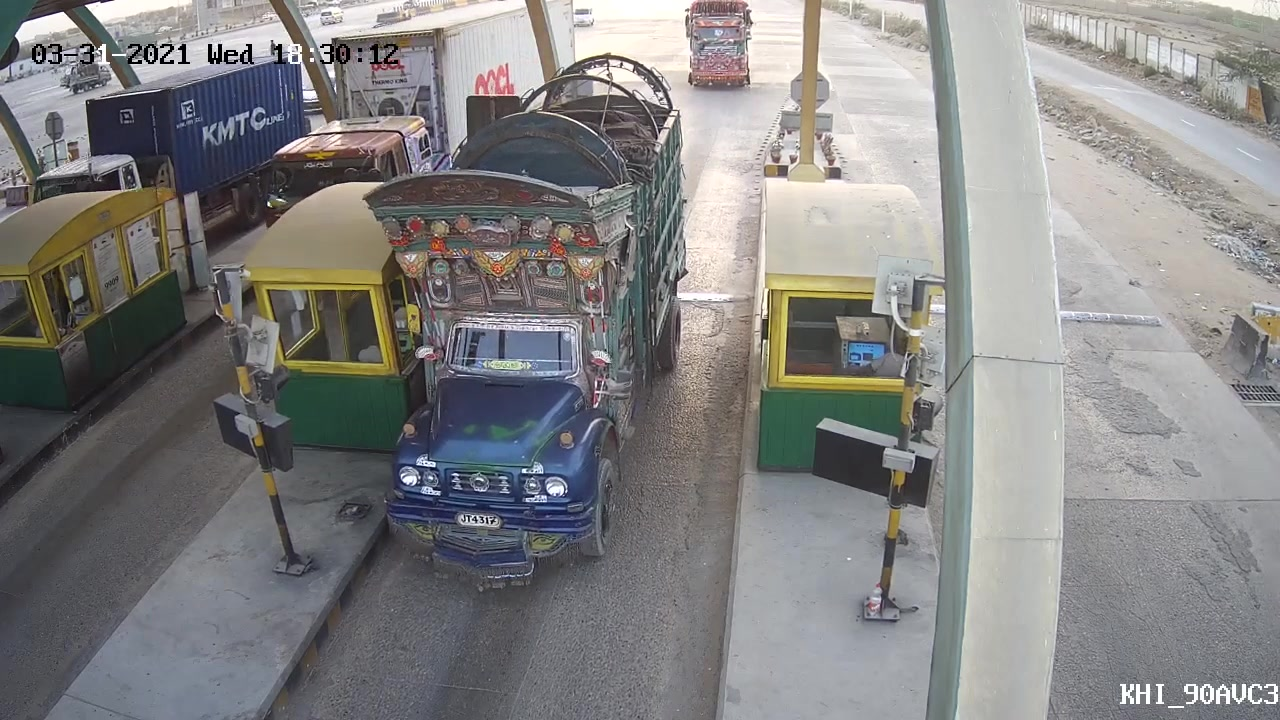F5: (370, 299, 651, 603)
